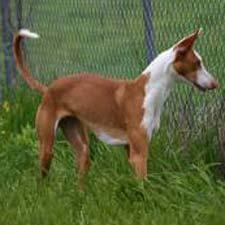Ibizan_hound: (12, 25, 219, 183)
